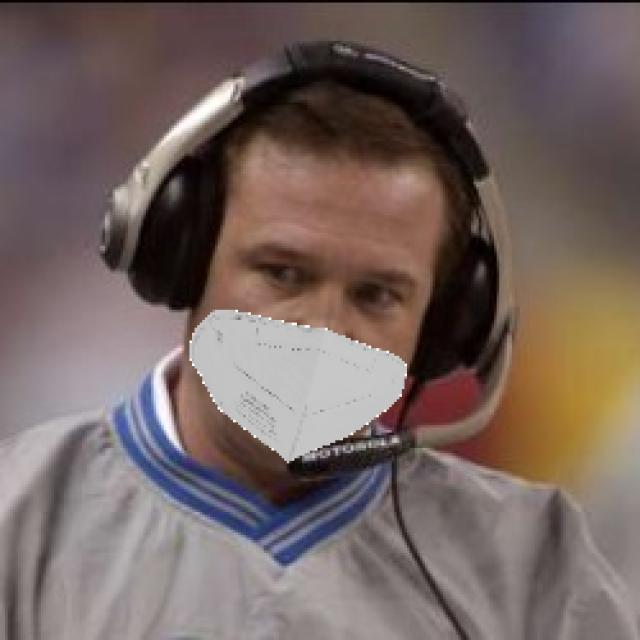mask: (195, 286, 404, 462)
